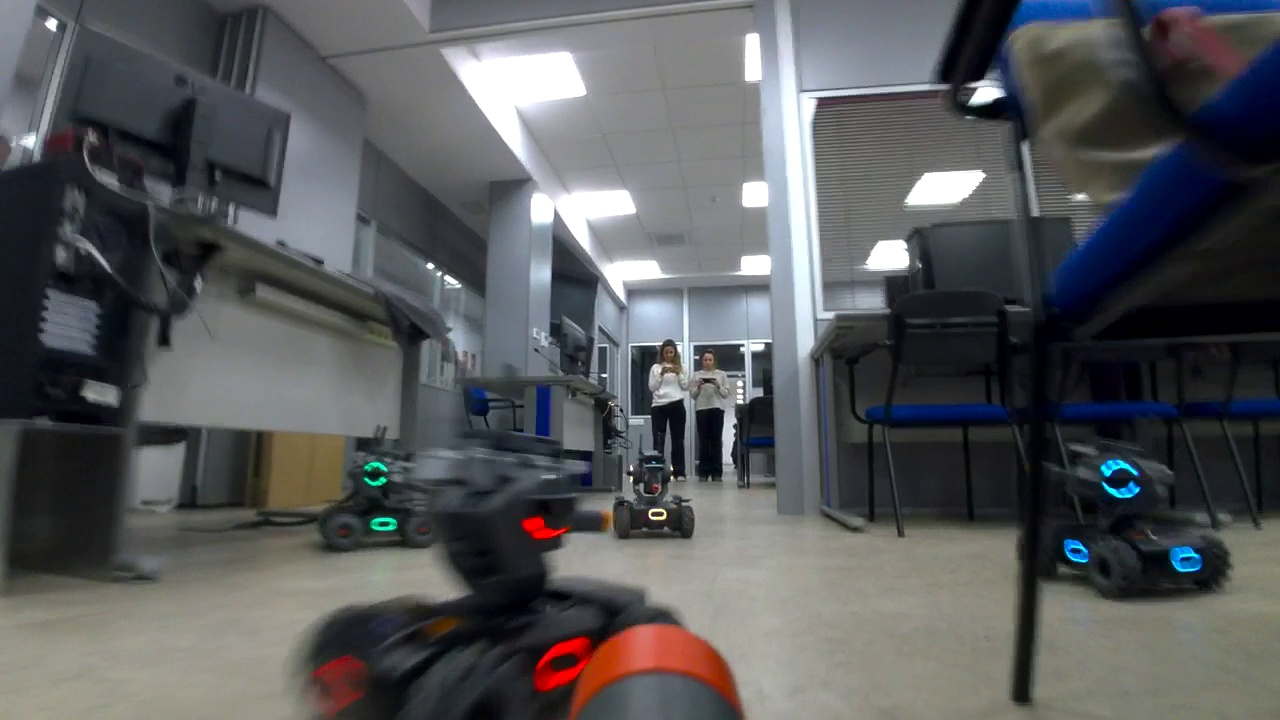robot: (293, 478, 699, 719), (1018, 440, 1235, 604), (321, 447, 439, 555), (610, 451, 697, 541)
